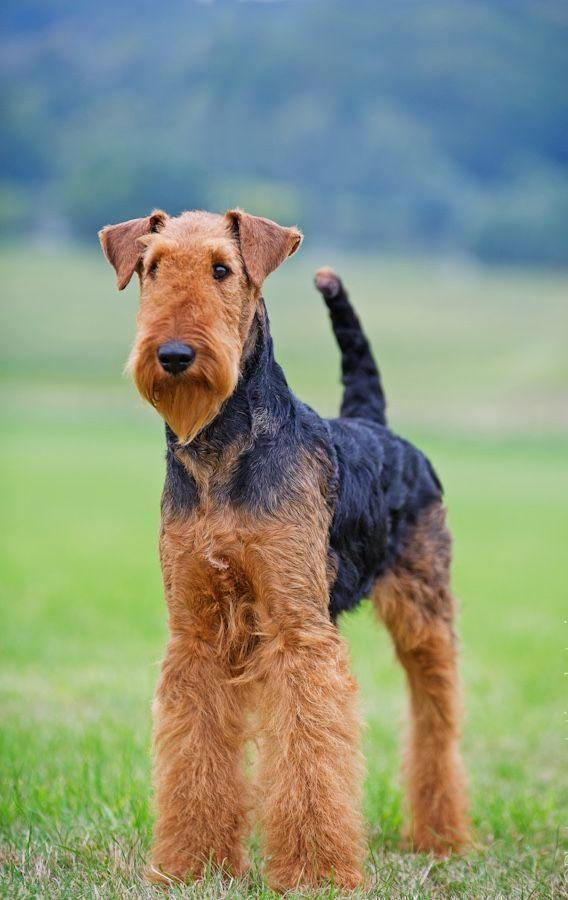dog: (100, 210, 466, 888)
